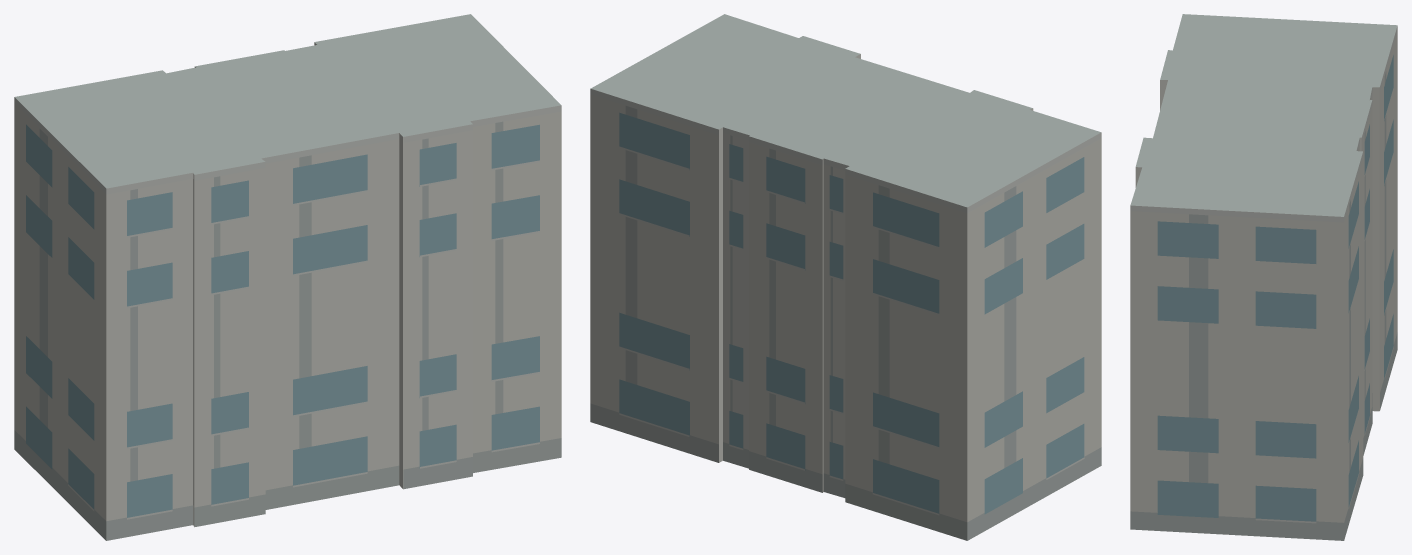
The model's file is survey-upis-32929109.glb.
3 views of the same model, side by side, from view 1: azimuth 30°, elevation 25°; view 2: azimuth 150°, elevation 25°; view 3: azimuth 270°, elevation 25° (orthographic). The views are drawn at different scales.
Parts seen in each view (by area): view 1: survey-upis-32929109.tmp; view 2: survey-upis-32929109.tmp; view 3: survey-upis-32929109.tmp.
Boxes of the visible parts, <box> form: survey-upis-32929109.tmp: <box>14,14,561,540</box>; survey-upis-32929109.tmp: <box>590,14,1101,540</box>; survey-upis-32929109.tmp: <box>1130,14,1397,540</box>.
Size of the model in its own units: 18.82 by 14 by 10.48.
